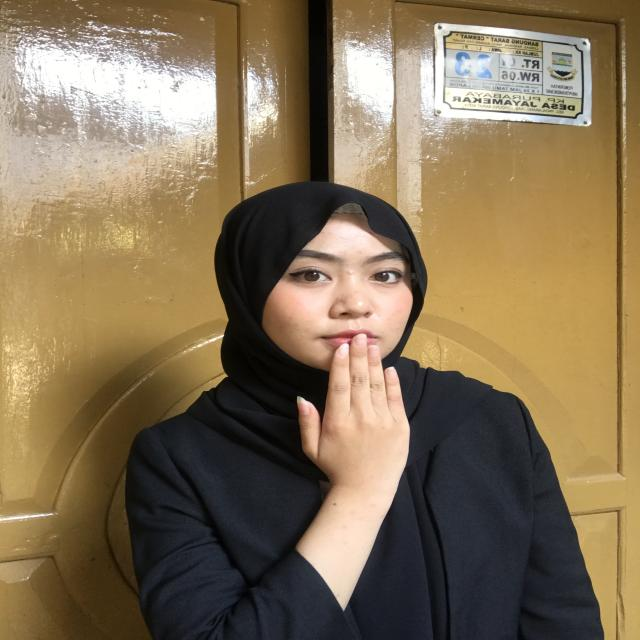ganteng: (279, 323, 430, 506)
